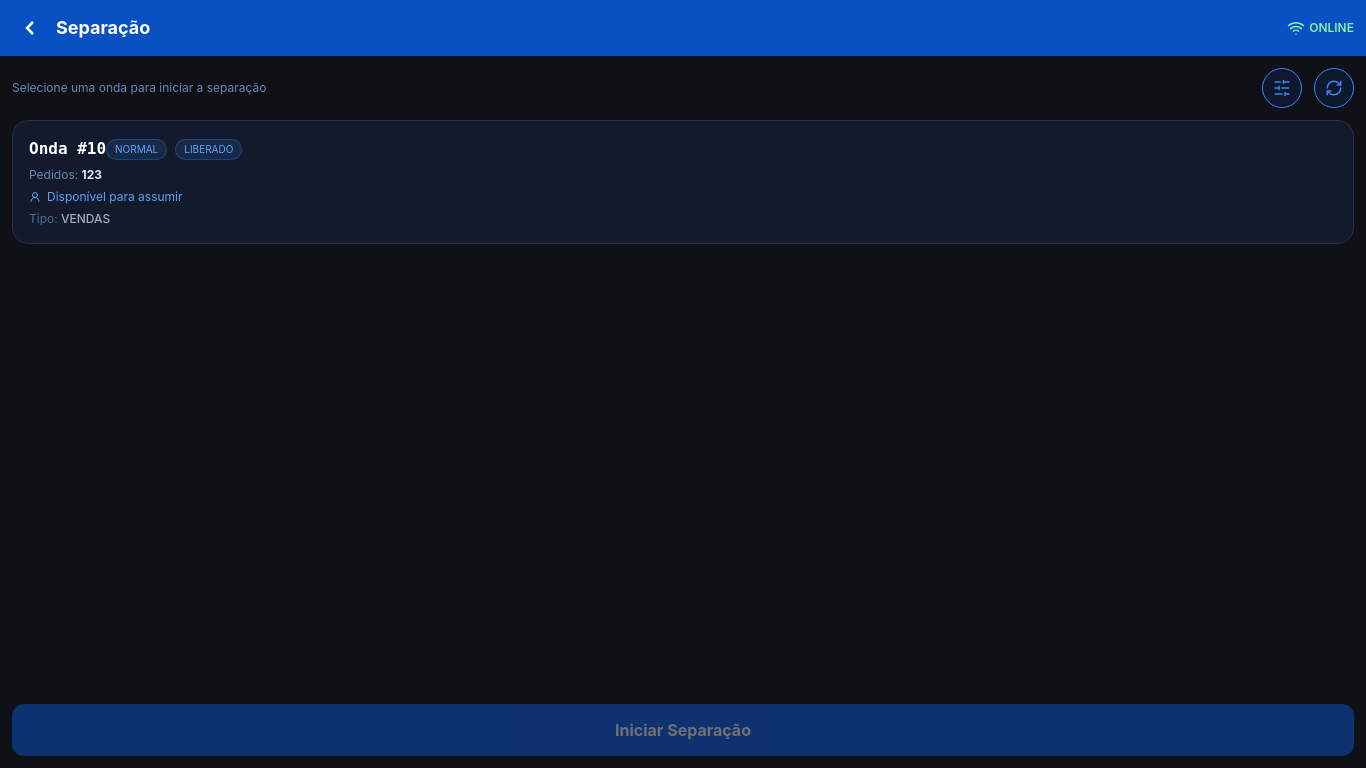
it: coletor — convocação híbrida na separação › selecionar a onda só consulta o resumo; nada é reservado
Step 1. Click the button that starts with "Onda #" → (683, 182), box [12,120,1354,244]
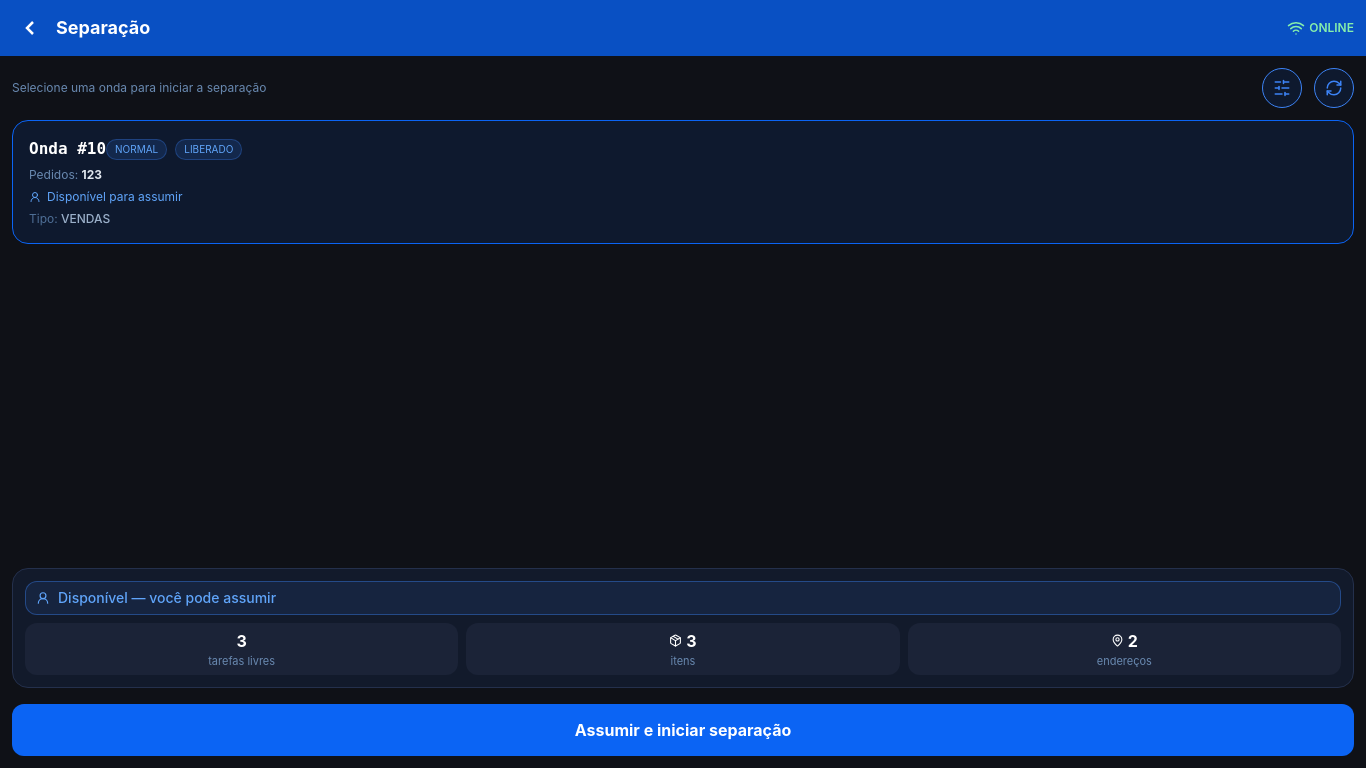
Expected: the button "Assumir e iniciar separação" is shown, [12,704,1354,756]
Result: the text "Disponível — você pode assumir" is shown at [58,588,276,608]
